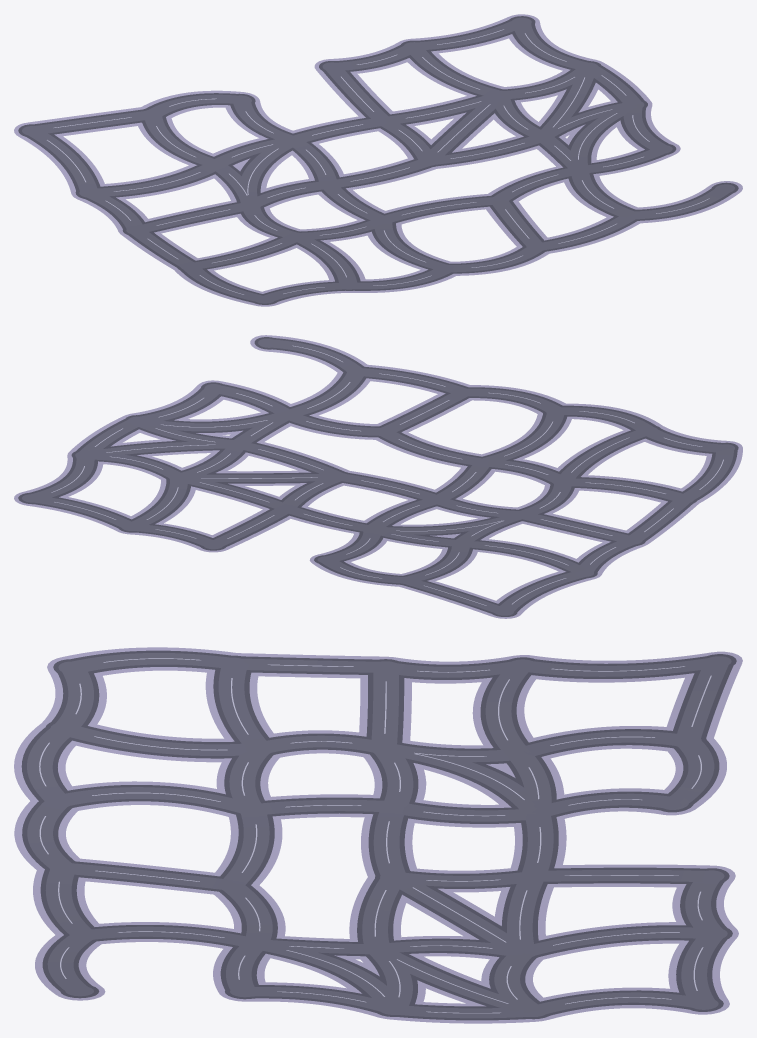
File: jalancluster.fbx
The picture shows the model from 3 angles, top to bottom: view 1: azimuth 30°, elevation 25°; view 2: azimuth 150°, elevation 25°; view 3: azimuth 270°, elevation 25°; orthographic projection. The views are drawn at different scales.
Visible parts, largest first — view 1: Aspal, Trotoar, Aspal_Pinggir, Garis_Tengah; view 2: Aspal, Trotoar, Aspal_Pinggir, Garis_Tengah; view 3: Aspal, Trotoar, Aspal_Pinggir, Garis_Tengah.
Part boxes in pixels (left/top/right/bottom): Aspal: left=22, top=17, right=734, bottom=303; Trotoar: left=14, top=14, right=742, bottom=306; Aspal_Pinggir: left=18, top=16, right=738, bottom=304; Garis_Tengah: left=47, top=29, right=709, bottom=294; Aspal: left=22, top=338, right=734, bottom=615; Trotoar: left=14, top=335, right=742, bottom=618; Aspal_Pinggir: left=18, top=337, right=738, bottom=616; Garis_Tengah: left=51, top=345, right=723, bottom=605; Aspal: left=27, top=653, right=731, bottom=1018; Trotoar: left=14, top=647, right=742, bottom=1023; Aspal_Pinggir: left=21, top=650, right=736, bottom=1020; Garis_Tengah: left=39, top=658, right=711, bottom=1013.
Size of the model in its own units: 17054 by 501 by 14139.
